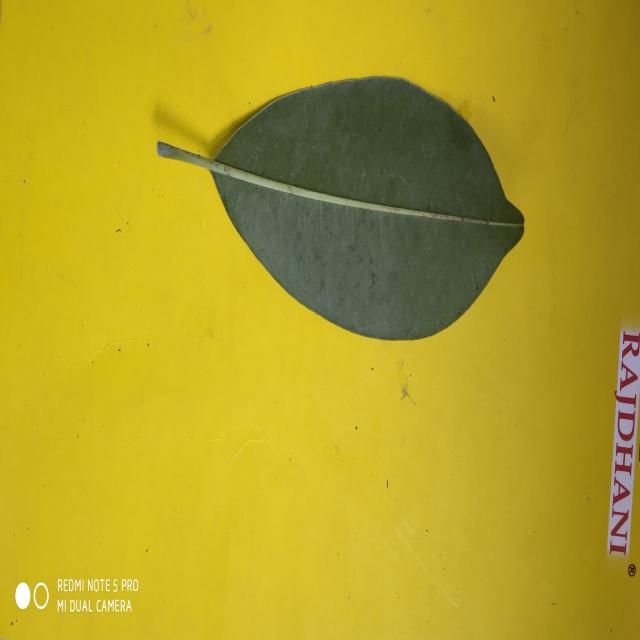sapota: (211, 78, 524, 340)
